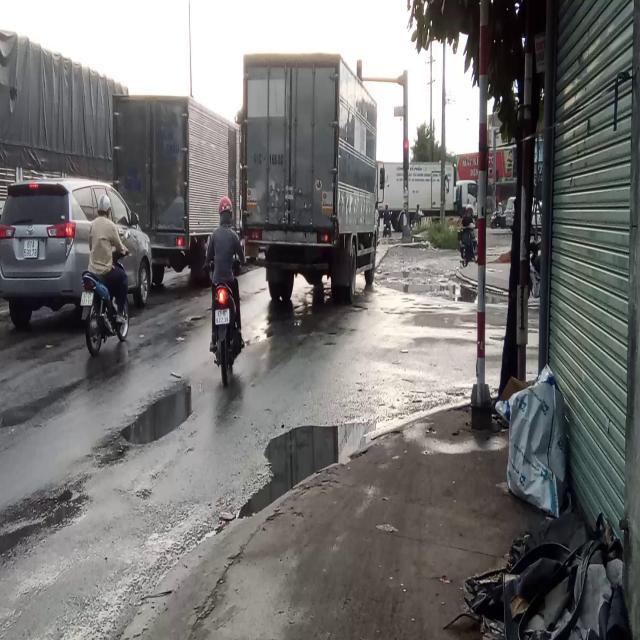bien_trang: (212, 307, 233, 327), (23, 238, 41, 261), (80, 287, 94, 309)
